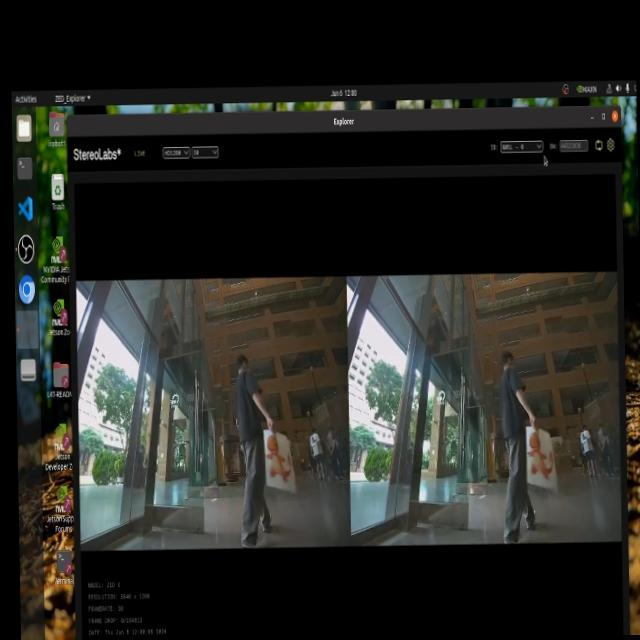red: (524, 418, 554, 490), (256, 428, 289, 488)
